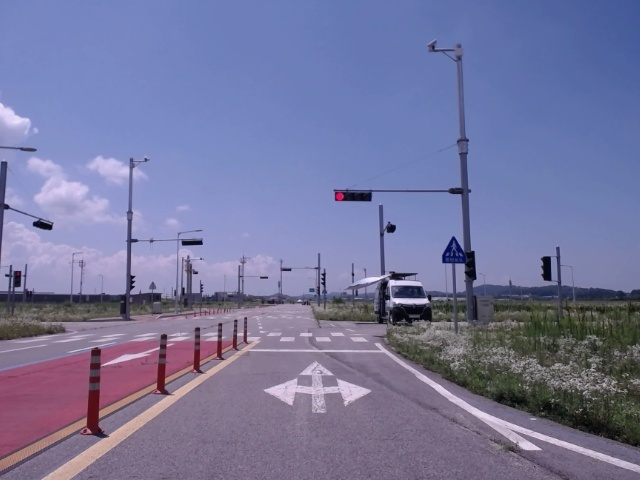red_4: (334, 190, 373, 202)
